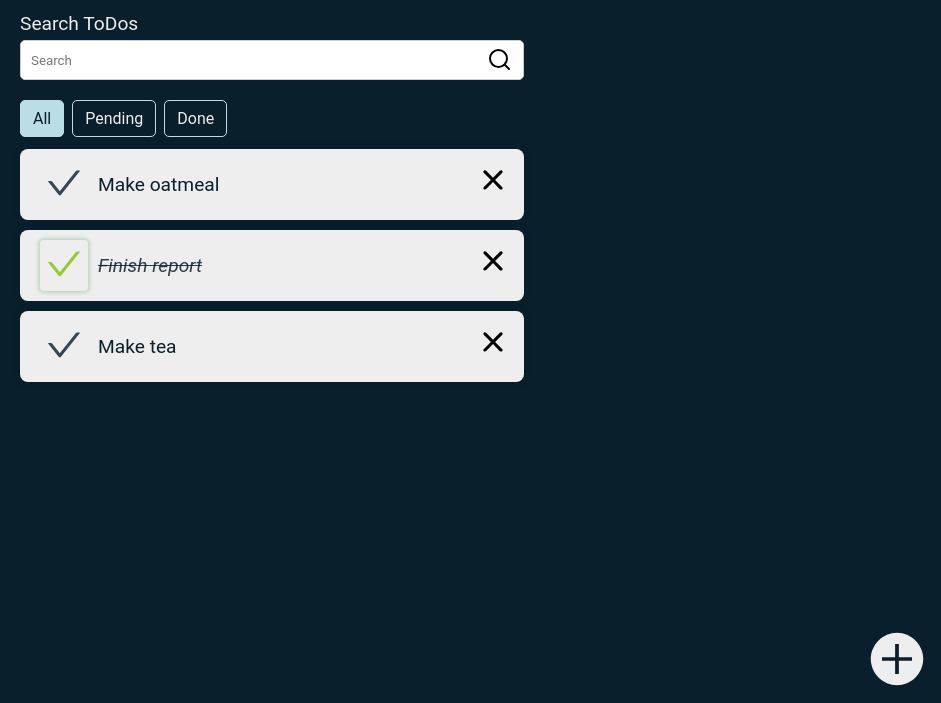
Test case: App › clears the query without changing the selected tab
Click the tab "Pending": (114, 118) [72,100,156,137]
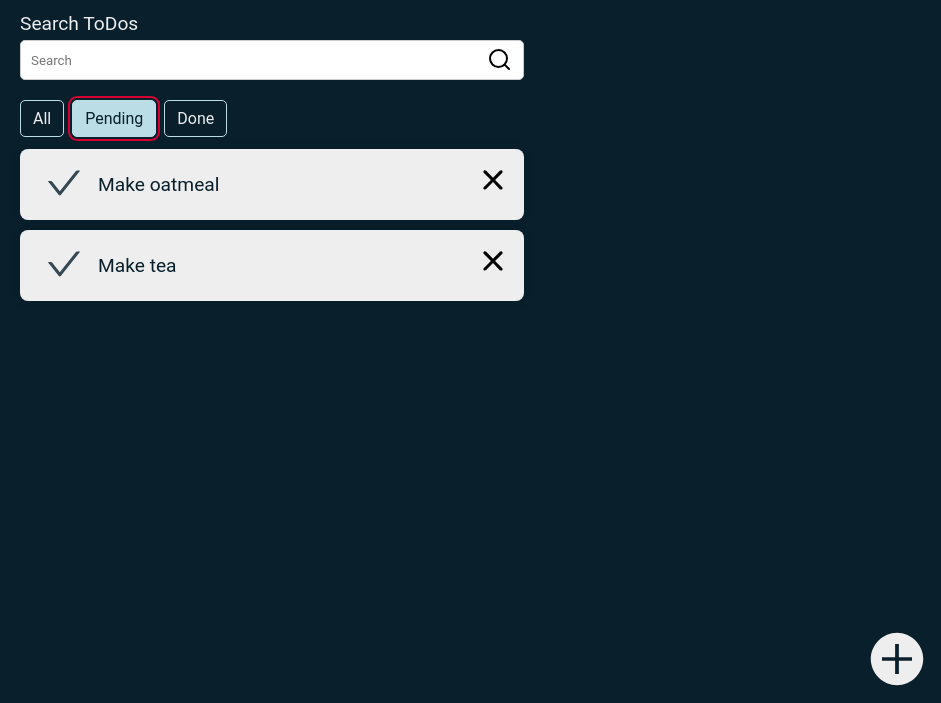
In the field labelled "Search ToDos": (272, 60) [20,40,524,80], type "tea"
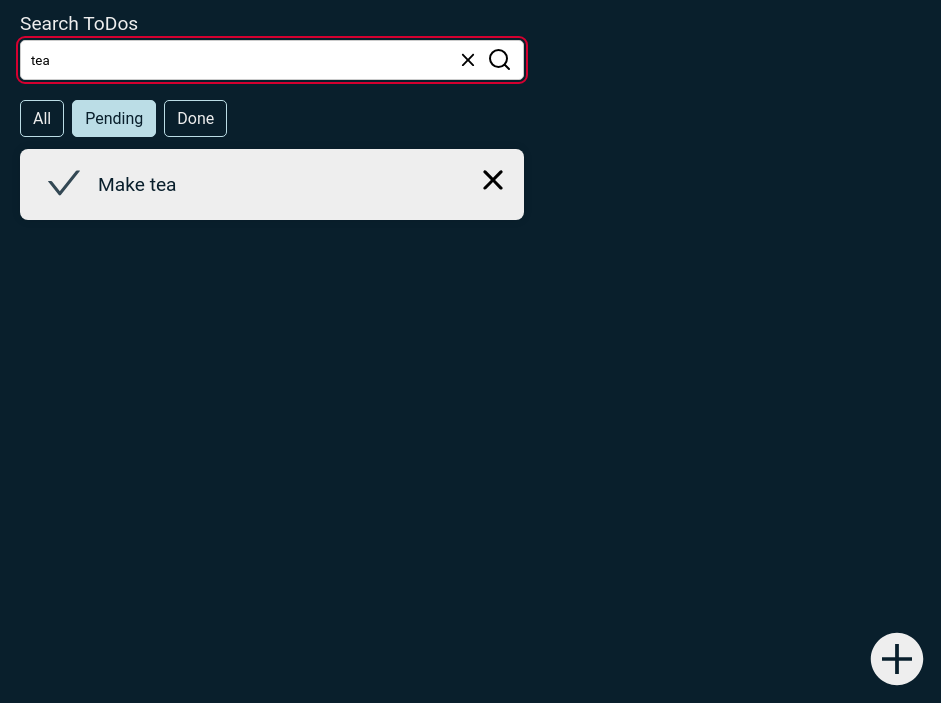
Click the button named "Clear search": (468, 60) [456,48,480,72]
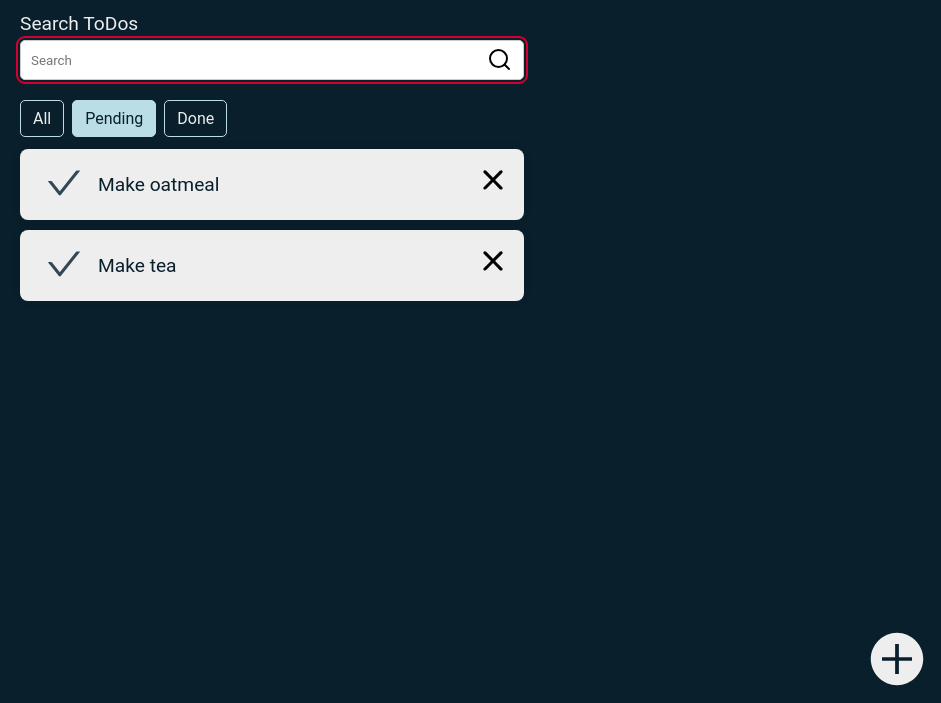
Expected: the text "Make tea" is shown, [98,254,177,277]
Expected: the field labelled "Search ToDos" is empty, [20,40,524,80]
Expected: the text "Make oatmeal" is shown, [98,173,219,196]
